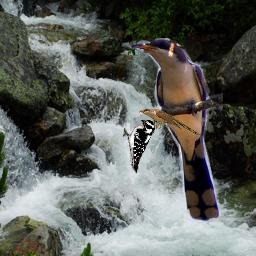Cuckoo: (130, 38, 223, 224), (138, 108, 200, 135)
Woodpecker: (123, 120, 155, 174)
